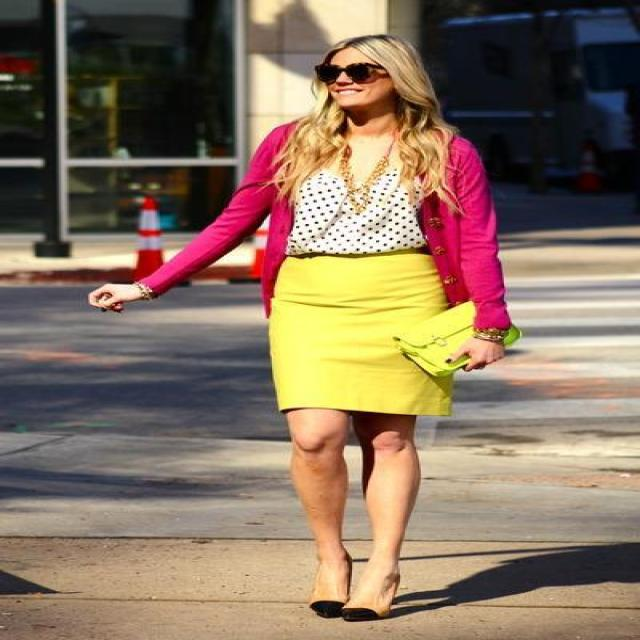bag: (389, 301, 480, 370)
jacket: (134, 122, 525, 355)
shirt: (286, 157, 424, 254)
shoe: (311, 600, 364, 621)
skirt: (269, 248, 494, 415)
sunglass: (316, 49, 390, 85)
